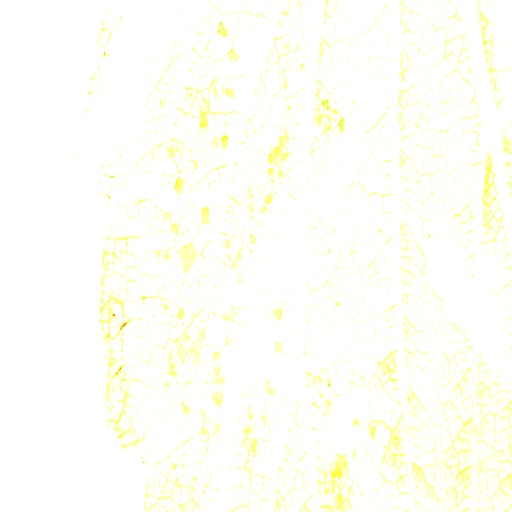Angular Leafspot: (72, 11, 398, 511)
